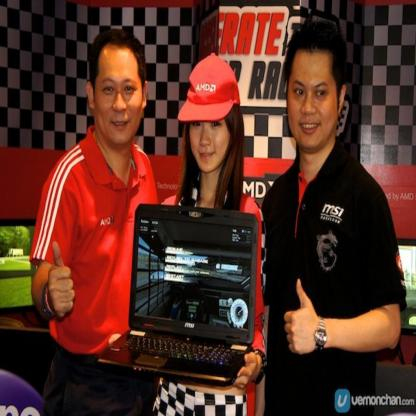board: (98, 203, 275, 399)
